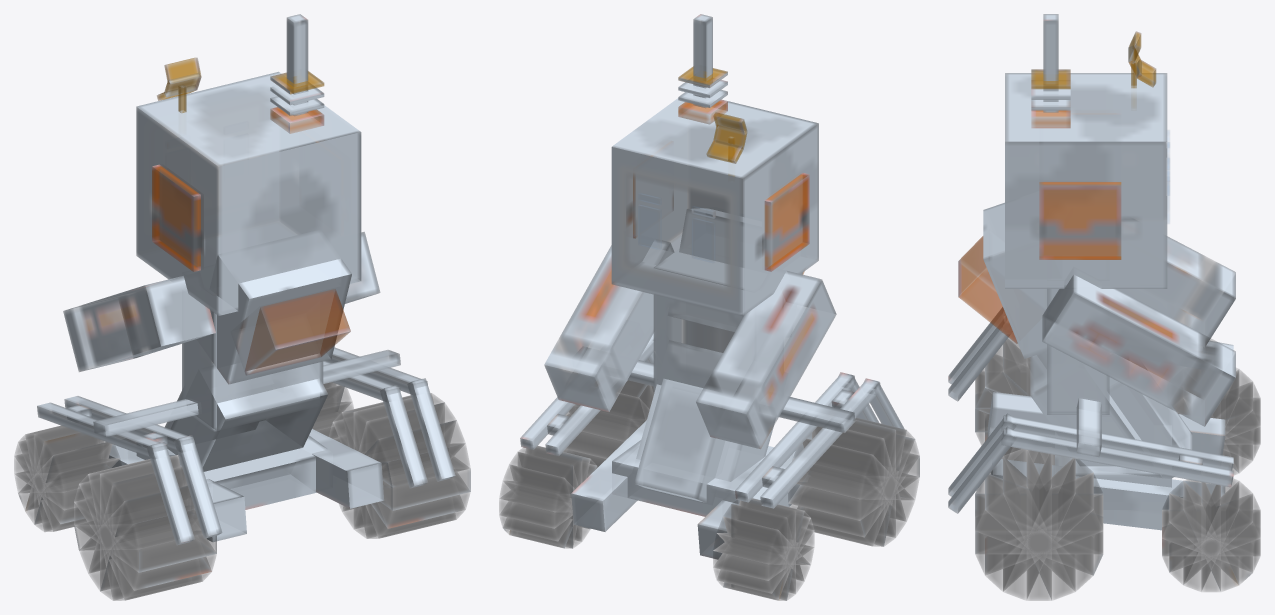
File: Minecraft_Robot.glb
3 views of the same model, side by side, from view 1: azimuth 30°, elevation 25°; view 2: azimuth 150°, elevation 25°; view 3: azimuth 270°, elevation 25° (orthographic). The views are drawn at different scales.
Parts seen in each view (by area): view 1: unnamed (×52); view 2: unnamed (×54); view 3: unnamed (×51).
Boxes of the visible parts, left/top/right/bottom form: unnamed (×52): left=14, top=14, right=470, bottom=600; unnamed (×54): left=499, top=14, right=919, bottom=600; unnamed (×51): left=948, top=14, right=1260, bottom=600.
Size of the model in its own units: 0.605 by 0.9165 by 0.4994.
1 material, 1 textured.
